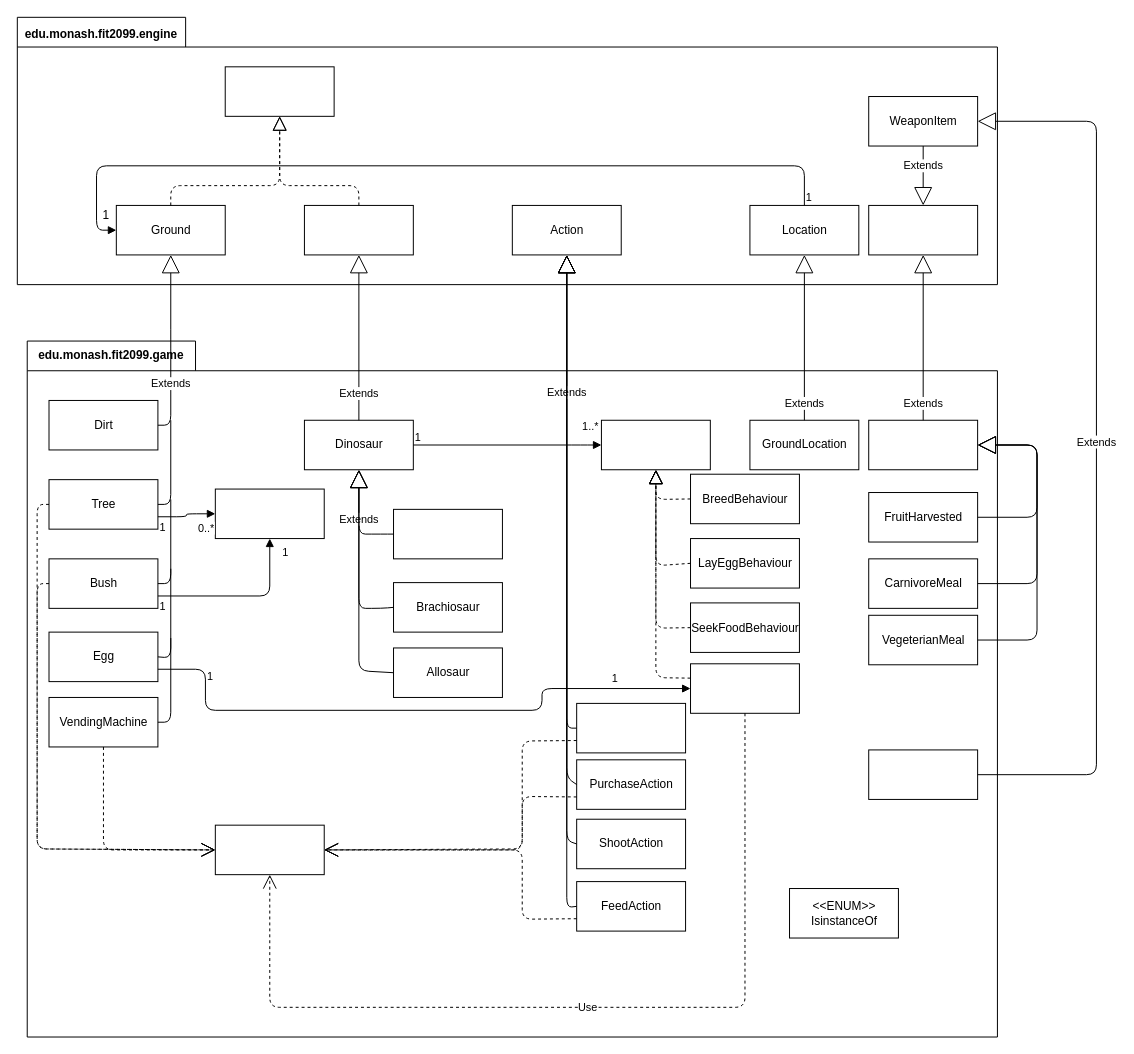
The diagram is 1134 pixels wide and 1054 high, and some of its shapes have lost their labels. The box of each missing label's shape, as (x1, y1, x2, y2) in pixels:
<<Interface>> Behaviour: (600, 419, 710, 470)
<<Interface>> Capable: (224, 66, 334, 116)
<<static>> EcoPoint: (214, 824, 324, 875)
Actor: (303, 204, 413, 255)
Fruit: (214, 488, 324, 539)
HarvestAction: (576, 702, 686, 753)
HatchBehaviour: (690, 663, 799, 713)
Item: (868, 204, 978, 255)
LaserGun: (868, 749, 978, 799)
PortableItem: (868, 419, 978, 470)
Stegosaur: (393, 508, 502, 559)
